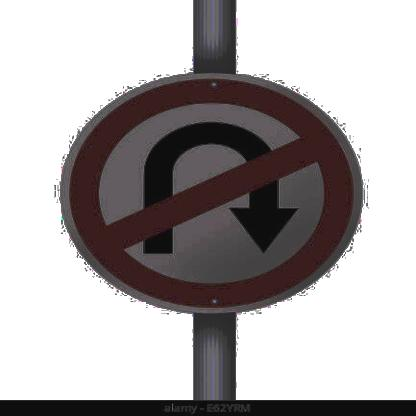No U-turn: (58, 72, 368, 314)
